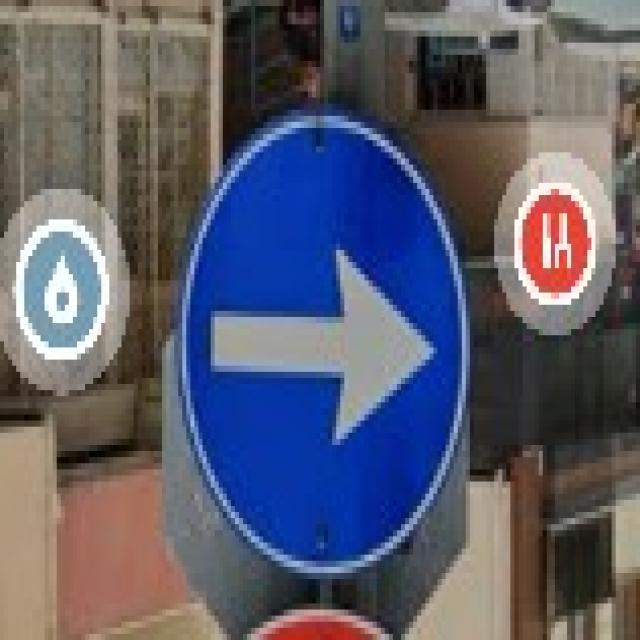Turn Right: (189, 120, 457, 589)
